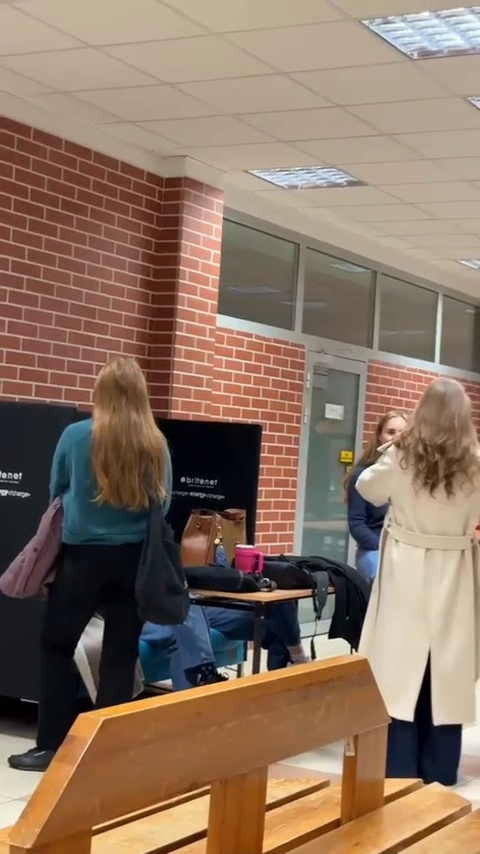no vest: (39, 359, 182, 712), (354, 376, 480, 727)
